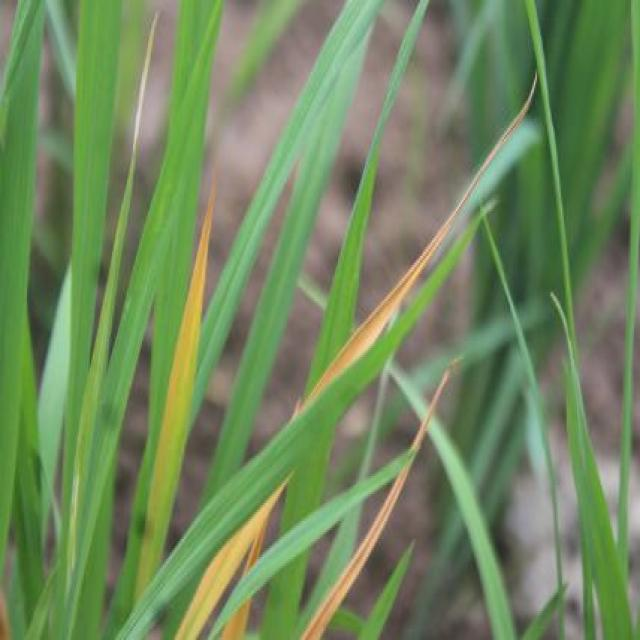Tungro: (134, 159, 212, 523), (311, 431, 432, 640), (294, 231, 454, 357), (183, 470, 287, 629)
